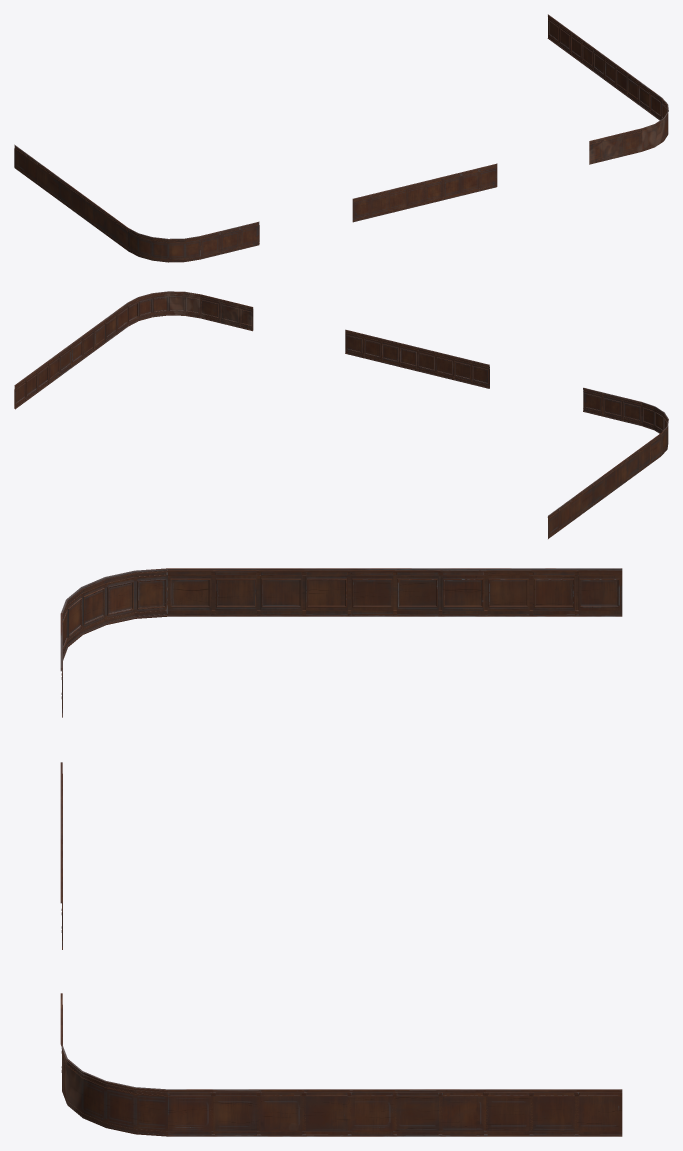
Rendered from Wall_WoodDecor (4).fbx.
3 renders of one model, top to bottom at view 1: azimuth 30°, elevation 25°; view 2: azimuth 150°, elevation 25°; view 3: azimuth 270°, elevation 25°, orthographic. The views are drawn at different scales.
Parts seen in each view (by area): view 1: Wall_WoodDecor (3), Wall_WoodDecor (4), Wall_WoodDecor (1), Wall_WoodDecor (2); view 2: Wall_WoodDecor (3), Wall_WoodDecor (4), Wall_WoodDecor (1), Wall_WoodDecor (2); view 3: Wall_WoodDecor (3), Wall_WoodDecor (2).
Boxes of the visible parts, bbox=[...] form: Wall_WoodDecor (3): bbox=[14, 14, 661, 251]; Wall_WoodDecor (4): bbox=[352, 163, 497, 222]; Wall_WoodDecor (1): bbox=[200, 128, 642, 259]; Wall_WoodDecor (2): bbox=[128, 97, 668, 262]; Wall_WoodDecor (3): bbox=[14, 302, 661, 538]; Wall_WoodDecor (4): bbox=[345, 329, 489, 388]; Wall_WoodDecor (1): bbox=[200, 294, 642, 425]; Wall_WoodDecor (2): bbox=[128, 291, 668, 455]; Wall_WoodDecor (3): bbox=[168, 568, 622, 1136]; Wall_WoodDecor (2): bbox=[61, 568, 168, 1136].
Size of the model in its own units: 28.21 by 12.83 by 1.2.
4 materials, 4 textured.
